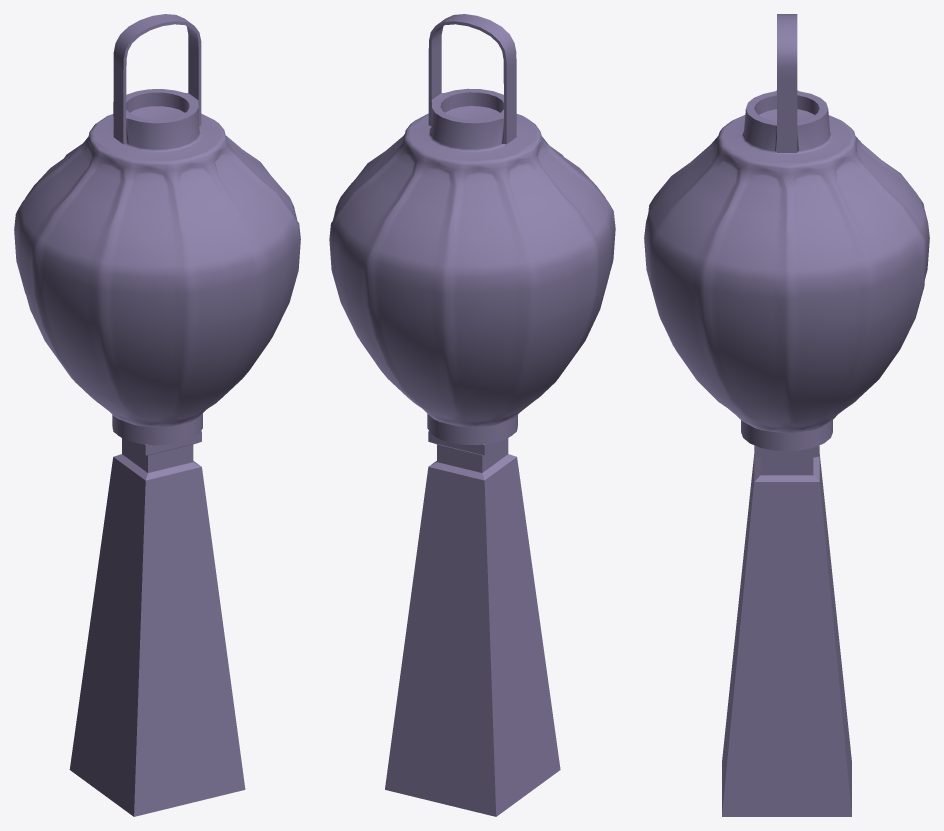
The model's file is sm_lamp.fbx.
3 renders of one model, left to right at view 1: azimuth 30°, elevation 25°; view 2: azimuth 150°, elevation 25°; view 3: azimuth 270°, elevation 25°, orthographic.
Visible parts, largest first — view 1: sm_lamp; view 2: sm_lamp; view 3: sm_lamp.
Part boxes in pixels (box(x1,y1,x2,y2)): sm_lamp: box(14, 14, 300, 816); sm_lamp: box(329, 14, 615, 816); sm_lamp: box(644, 14, 929, 816).
Size of the model in its own units: 44.31 by 129 by 43.54.
